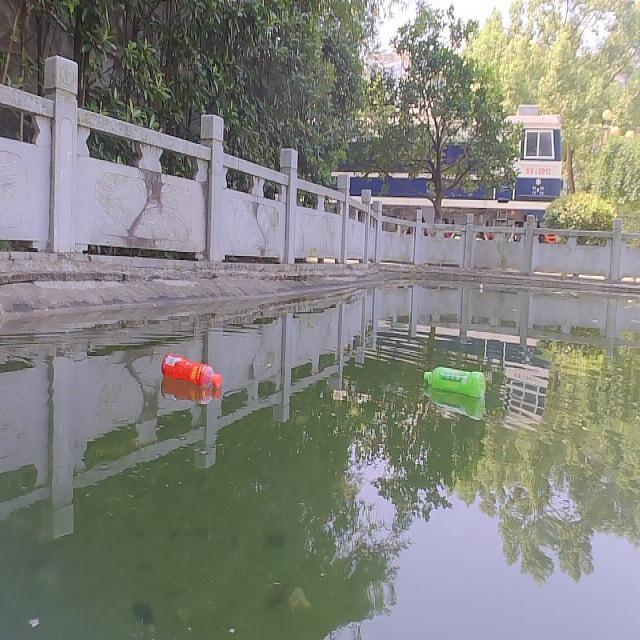bottle: (160, 348, 223, 388), (421, 362, 487, 398)
